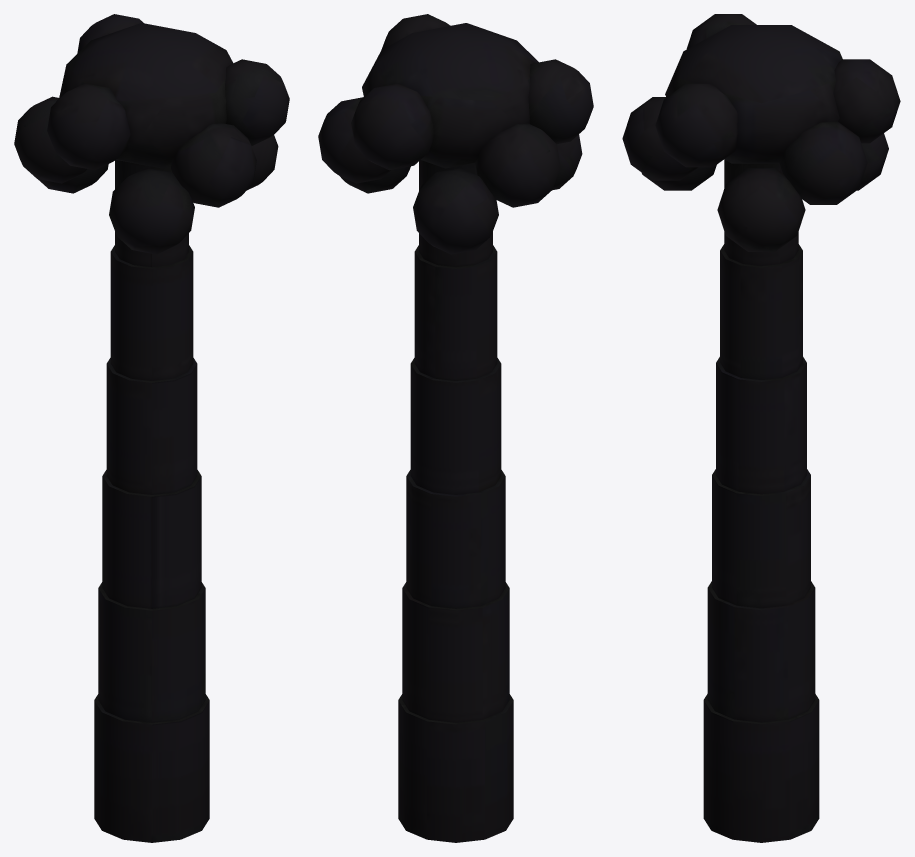
The model's file is chorro_petroleo.glb.
The picture shows the model from 3 angles, left to right: view 1: azimuth 30°, elevation 25°; view 2: azimuth 150°, elevation 25°; view 3: azimuth 270°, elevation 25°; orthographic projection.
Visible parts, largest first — view 1: chorro_petroleo; view 2: chorro_petroleo; view 3: chorro_petroleo.
Boxes of the visible parts, <box> form: chorro_petroleo: <box>14,14,289,842</box>; chorro_petroleo: <box>318,14,593,842</box>; chorro_petroleo: <box>622,14,900,842</box>.
Size of the model in its own units: 1.97 by 6.29 by 2.02.
1 material, 1 textured.
